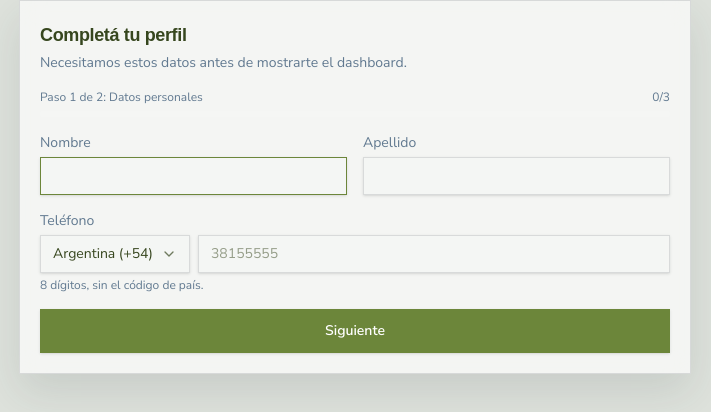
Test: ProfileGate (KAN-167) › un colaborador no ve el campo de matrícula en el paso 2 del formulario
Type "Juan" into the field labelled "Nombre" at x=194, y=176, box left=40, top=157, right=347, bottom=195
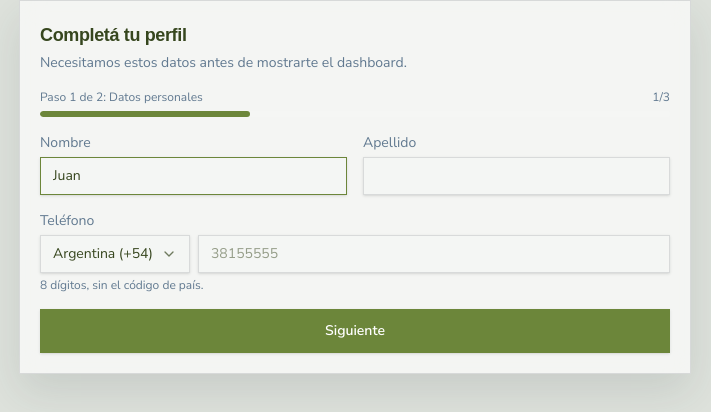
Type "Pérez" into the field labelled "Apellido" at x=516, y=176, box left=363, top=157, right=670, bottom=195
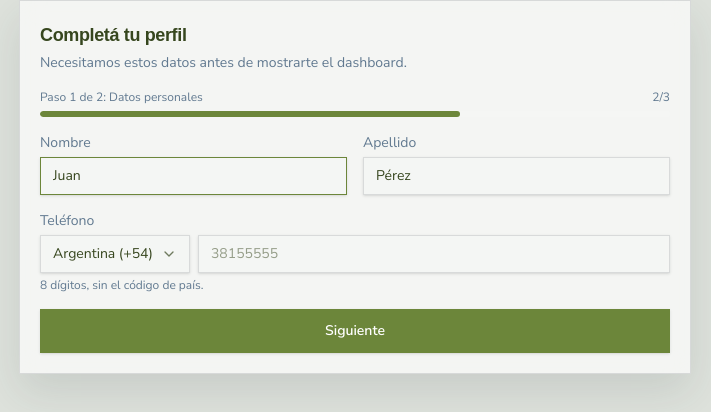
Type "38155512" into the field named "Número de teléfono" at x=434, y=254, box left=198, top=235, right=670, bottom=273
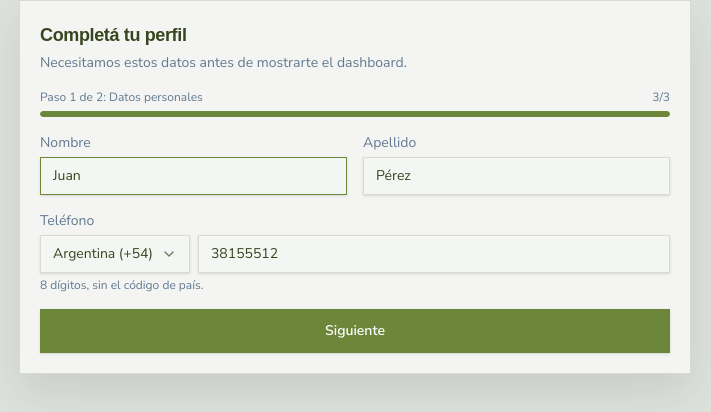
Click the button "Siguiente" at x=355, y=331, box left=40, top=309, right=670, bottom=353
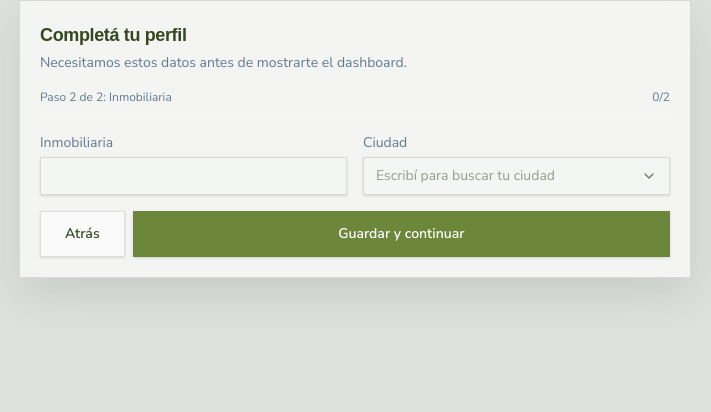
Result: the dropdown labelled "Ciudad" is enabled at left=376, top=166, right=633, bottom=186
